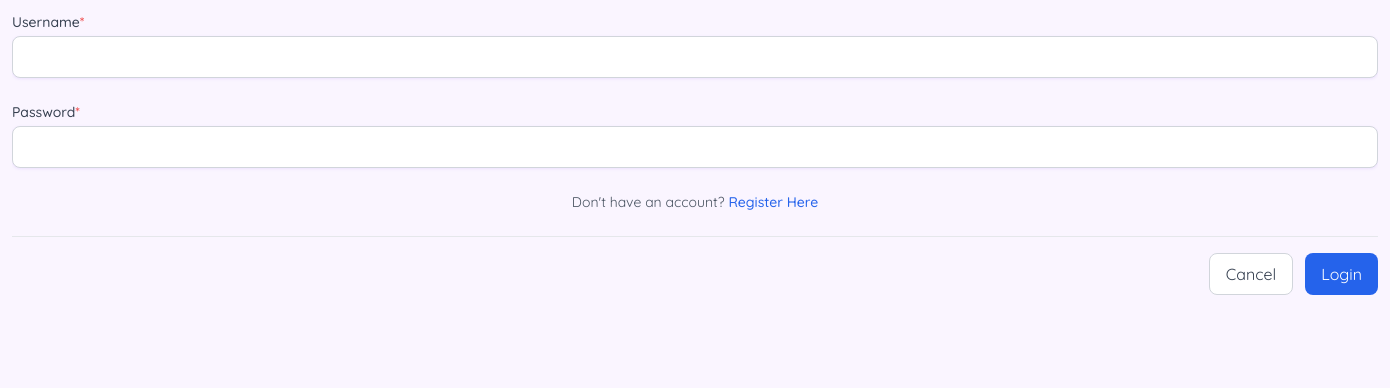
Scenario: LoginForm › shows default error message when login fails without response data
Type "testUser" into the field labelled "Username*".
click(695, 57); type("testUser")  # box top-left (12, 36), bottom-right (1378, 78)
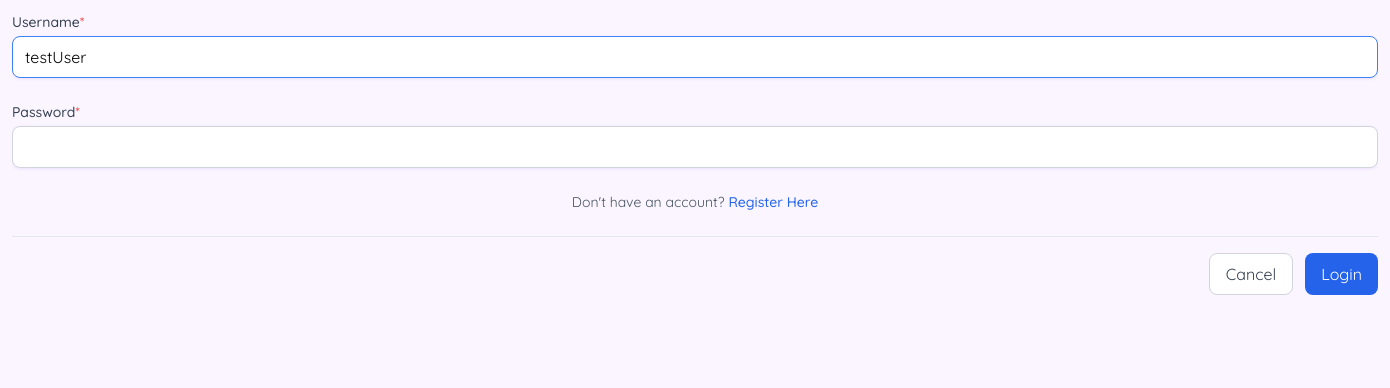
Type "password123" into the password field labelled "Password*".
click(695, 147); type("password123")  # box top-left (12, 126), bottom-right (1378, 168)
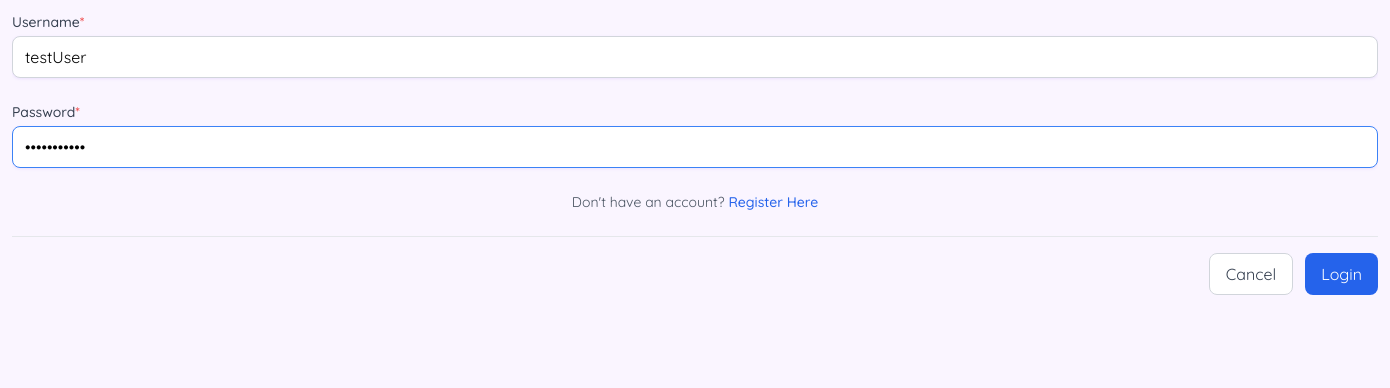
Click the button "Login".
click(1342, 274)  # box top-left (1305, 253), bottom-right (1378, 295)
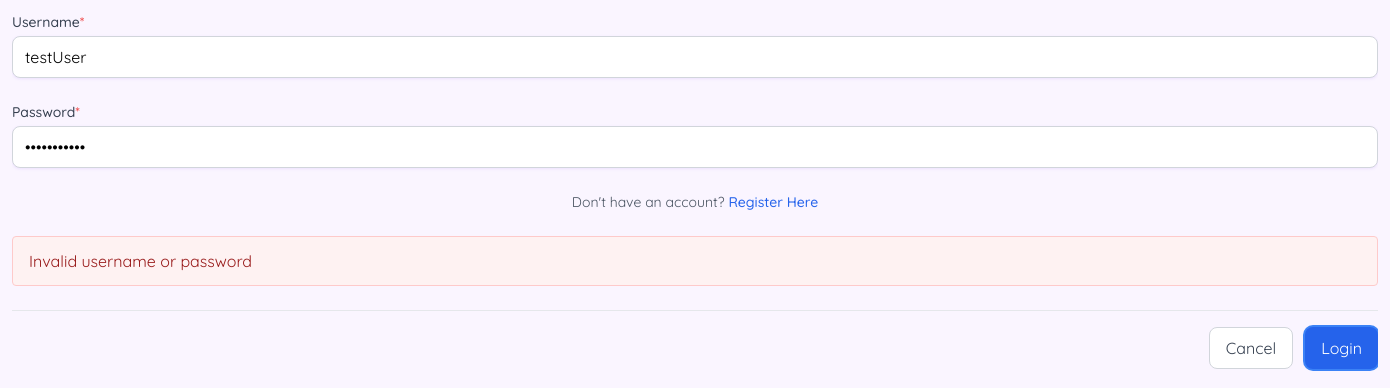
Now the text "Invalid username or password" is shown, box top-left (12, 236), bottom-right (1378, 286)
